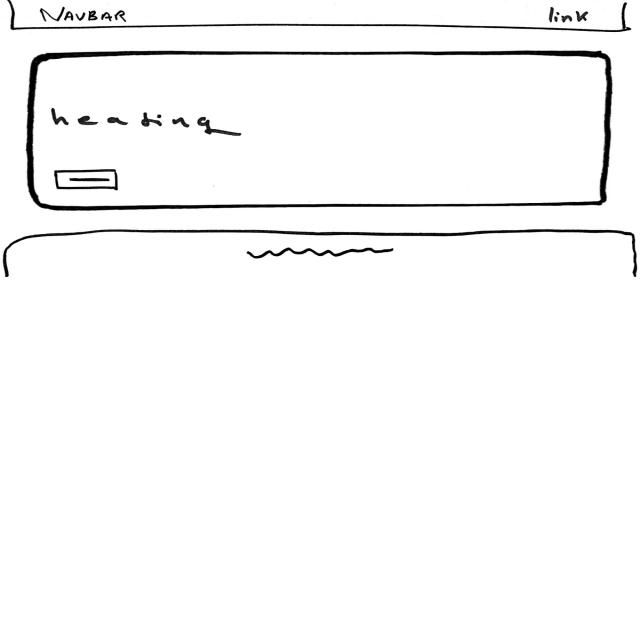container: (29, 52, 613, 211), (8, 1, 630, 32)
icon-button: (52, 168, 121, 193)
label: (50, 107, 245, 138), (35, 6, 129, 23), (544, 6, 589, 25)
text: (242, 247, 395, 261)
